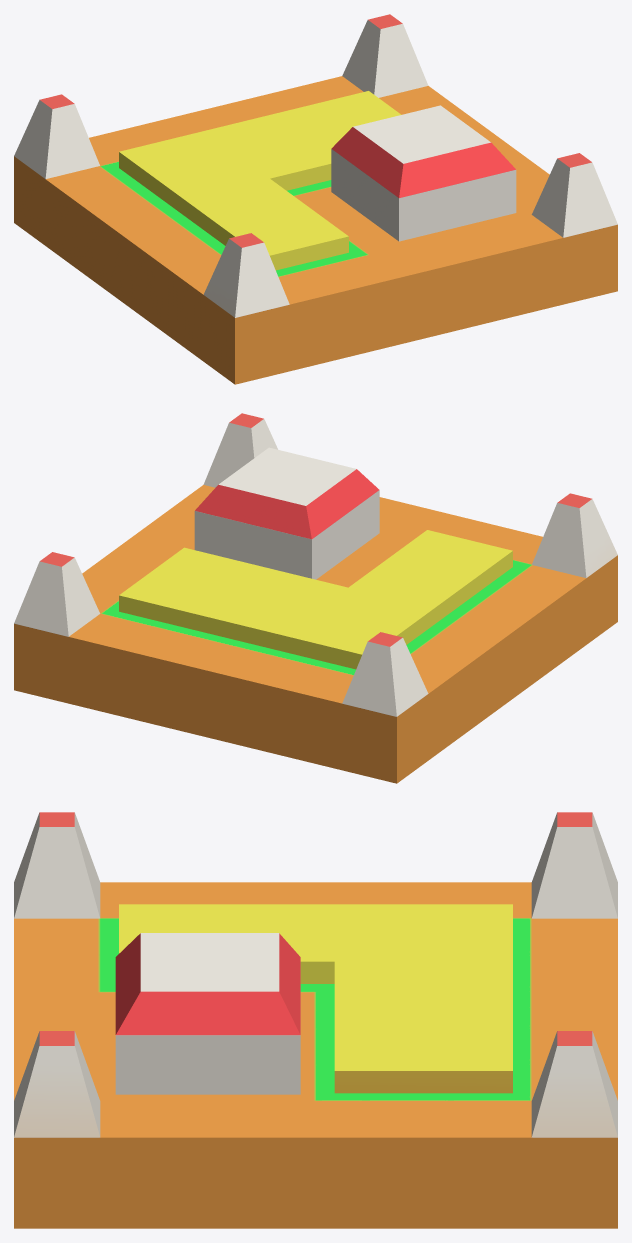
File: somebuildings.fbx
3 views of the same model, one above another, from view 1: azimuth 30°, elevation 25°; view 2: azimuth 150°, elevation 25°; view 3: azimuth 270°, elevation 25° (orthographic). The views are drawn at different scales.
Parts seen in each view (by area): view 1: Cube; view 2: Cube; view 3: Cube.
Part boxes in pixels (x1,y1,x2,y2): Cube: (14,14,617,384); Cube: (14,413,617,783); Cube: (14,812,617,1228).
Bounding box in the file's own units: 600 × 201 × 600.
1 material, 1 textured.
